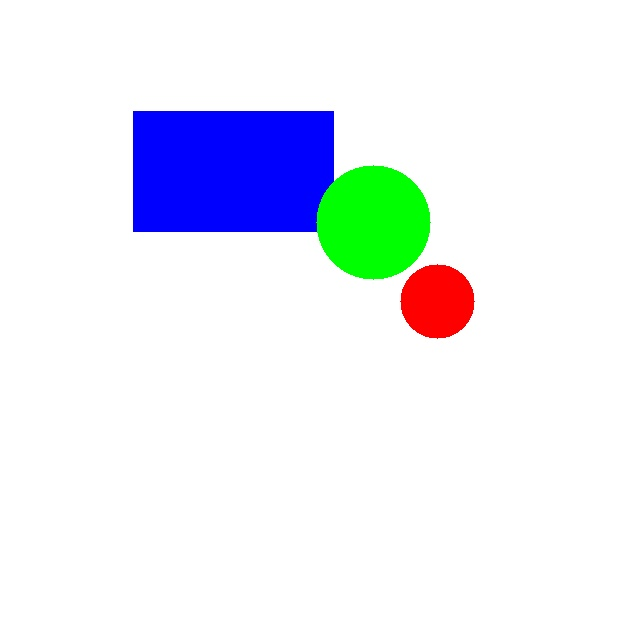cartao: (133, 111, 333, 231)
rosca_externa: (316, 165, 430, 279)
rosca_interna: (400, 264, 474, 338)
